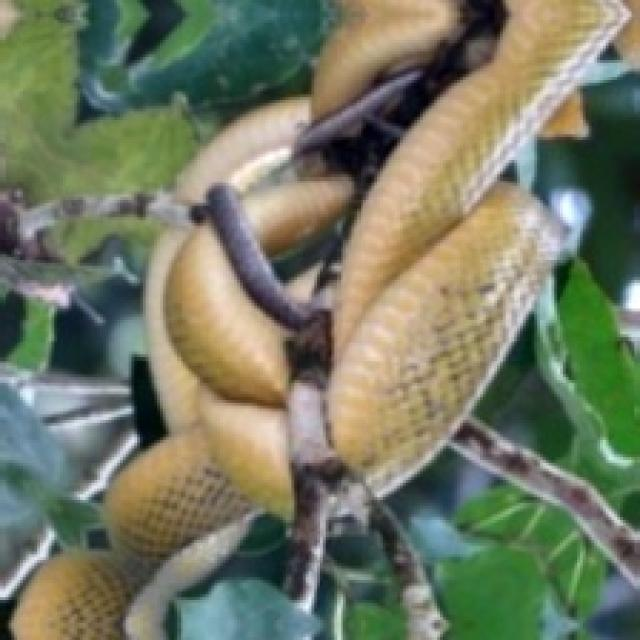red-tailed green ratsnake: (174, 0, 626, 491), (11, 220, 306, 637)
